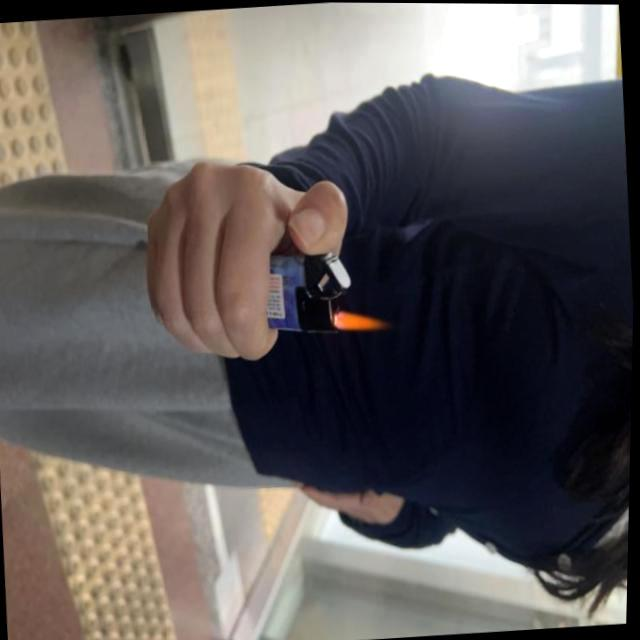fire: (339, 304, 389, 332)
